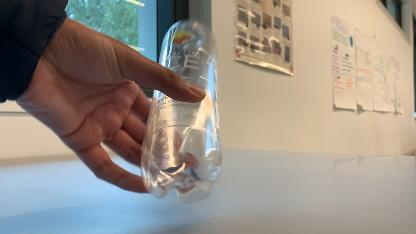Plastic Bottle: (133, 14, 229, 206)
